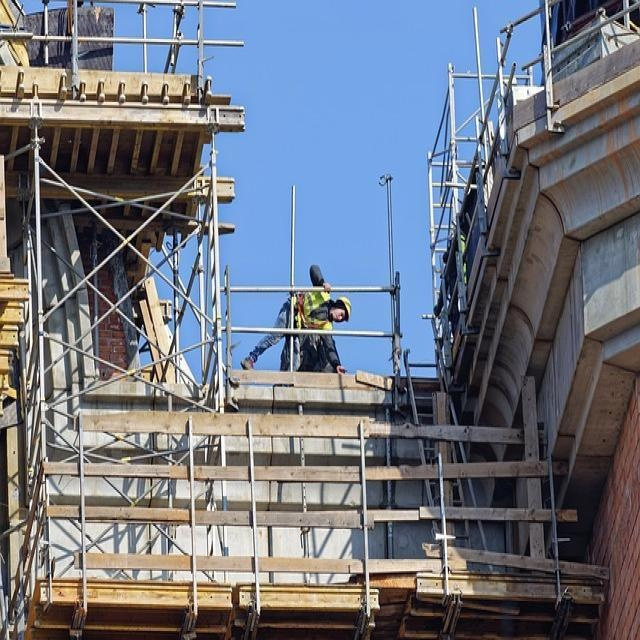Arnes_seguridad: (291, 291, 325, 327)
